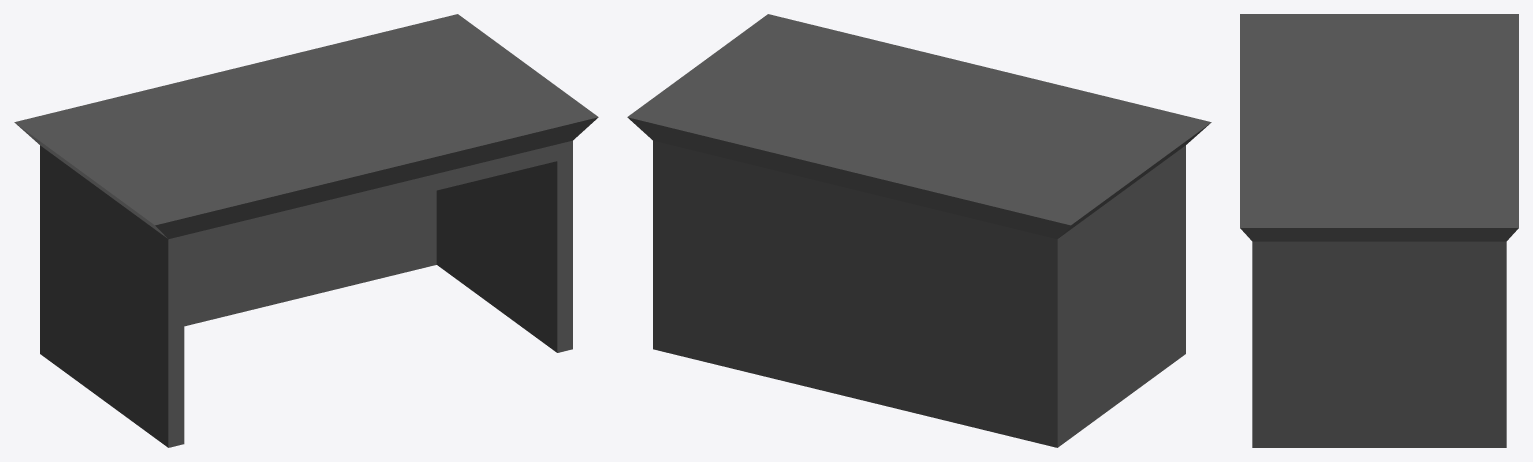
Rendered from Itr_Wardrobe2_Body3_04.FBX.
The picture shows the model from 3 angles, left to right: view 1: azimuth 30°, elevation 25°; view 2: azimuth 150°, elevation 25°; view 3: azimuth 270°, elevation 25°; orthographic projection.
Visible parts, largest first — view 1: Itr_Wardrobe2_Body3_04; view 2: Itr_Wardrobe2_Body3_04; view 3: Itr_Wardrobe2_Body3_04.
Part boxes in pixels (x1=…): Itr_Wardrobe2_Body3_04: x1=14, y1=14, x2=598, y2=447; Itr_Wardrobe2_Body3_04: x1=627, y1=14, x2=1211, y2=447; Itr_Wardrobe2_Body3_04: x1=1240, y1=14, x2=1518, y2=447.
Size of the model in its own units: 42.93 by 21.43 by 23.62.
